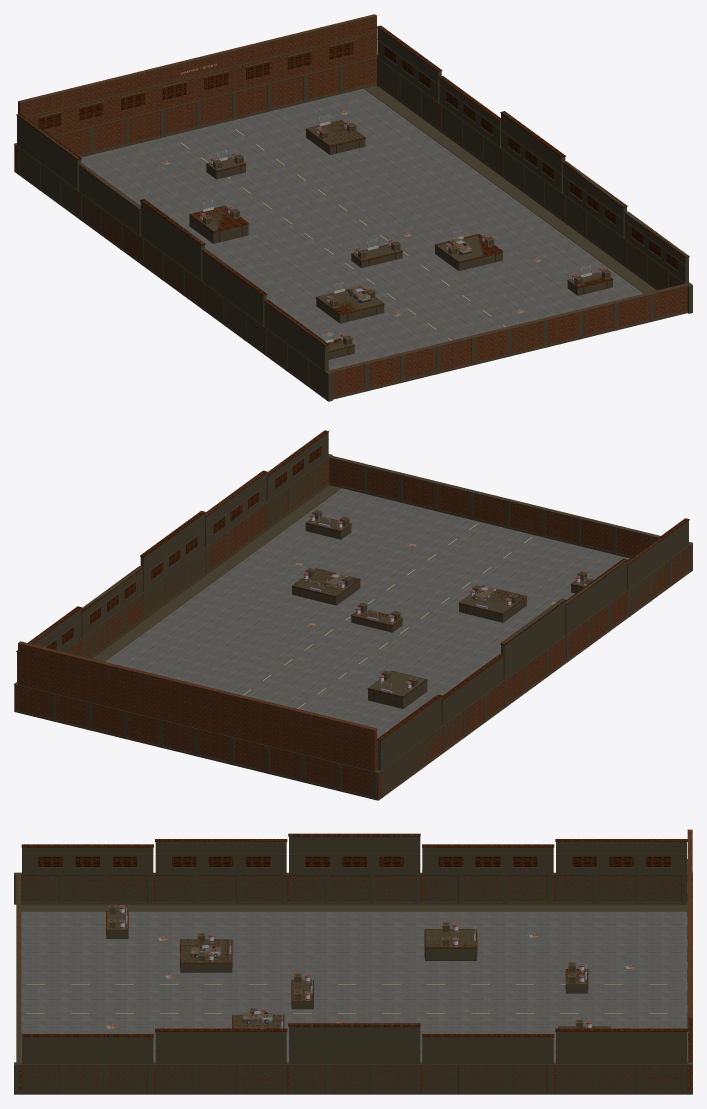
Rendered from quarantine_yard.glb.
3 renders of one model, top to bottom at view 1: azimuth 30°, elevation 25°; view 2: azimuth 150°, elevation 25°; view 3: azimuth 270°, elevation 25°, orthographic. The views are drawn at different scales.
Visible parts, largest first — view 1: ARCH_asphalt, ARCH_containment_facade, ARCH_perimeter_brick.002, ARCH_perimeter_brick.003, ARCH_perimeter_brick, ARCH_factory_facade.002, ARCH_factory_facade.004, ARCH_factory_facade.001, ARCH_factory_facade.007, ARCH_sidewalk.001, ARCH_factory_facade.006, ARCH_factory_facade (+20 smaller); view 2: ARCH_asphalt, ARCH_containment_facade, ARCH_perimeter_brick.003, ARCH_perimeter_brick.002, ARCH_perimeter_brick, ARCH_perimeter_brick.001, ARCH_factory_facade.004, ARCH_factory_facade.007, ARCH_factory_facade, ARCH_sidewalk.001, ARCH_factory_facade.005, ARCH_factory_facade.002 (+16 smaller); view 3: ARCH_asphalt, ARCH_factory_facade.007, ARCH_perimeter_brick.001, ARCH_factory_facade.002, ARCH_perimeter_brick, ARCH_factory_facade.006, ARCH_factory_facade.009, ARCH_factory_facade.008, ARCH_factory_facade.005, ARCH_factory_facade.004, ARCH_factory_facade.001, ARCH_factory_facade (+24 smaller).
Boxes of the visible parts, x1,y1,x2,y2 form: ARCH_asphalt: (81,88,643,370); ARCH_containment_facade: (18,14,376,155); ARCH_perimeter_brick.002: (330,284,687,397); ARCH_perimeter_brick.003: (58,58,376,154); ARCH_perimeter_brick: (14,145,329,397); ARCH_factory_facade.002: (140,201,204,304); ARCH_factory_facade.004: (17,114,81,215); ARCH_factory_facade.001: (202,249,266,350); ARCH_factory_facade.007: (501,111,565,217); ARCH_sidewalk.001: (365,85,656,293); ARCH_factory_facade.006: (563,161,626,263); ARCH_factory_facade: (264,300,328,396); ARCH_asphalt: (105,488,629,769); ARCH_containment_facade: (18,641,376,796); ARCH_perimeter_brick.003: (18,686,372,796); ARCH_perimeter_brick.002: (329,456,659,556); ARCH_perimeter_brick: (377,543,690,798); ARCH_perimeter_brick.001: (14,456,329,710); ARCH_factory_facade.004: (377,694,441,796); ARCH_factory_facade.007: (140,511,204,617); ARCH_factory_facade: (627,518,688,614); ARCH_sidewalk.001: (92,485,339,661); ARCH_factory_facade.005: (266,431,328,525); ARCH_factory_facade.002: (501,599,565,680); ARCH_asphalt: (21,911,687,1062); ARCH_factory_facade.007: (289,1024,420,1092); ARCH_perimeter_brick.001: (17,1063,692,1092); ARCH_factory_facade.002: (289,833,420,902); ARCH_perimeter_brick: (17,872,687,902); ARCH_factory_facade.006: (155,1032,286,1092); ARCH_factory_facade.009: (556,1030,686,1092); ARCH_factory_facade.008: (422,1034,553,1092); ARCH_factory_facade.005: (22,1034,153,1092); ARCH_factory_facade.004: (556,839,686,902); ARCH_factory_facade.001: (155,839,286,902); ARCH_factory_facade: (22,844,153,902).
Size of the model in its own units: 61.32 by 11.4 by 91.6.
24 materials, 5 textured.
